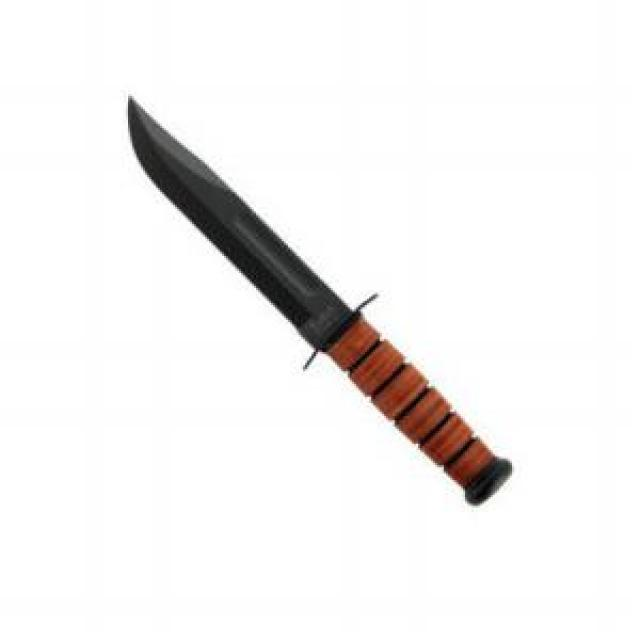knife: (122, 96, 515, 506)
